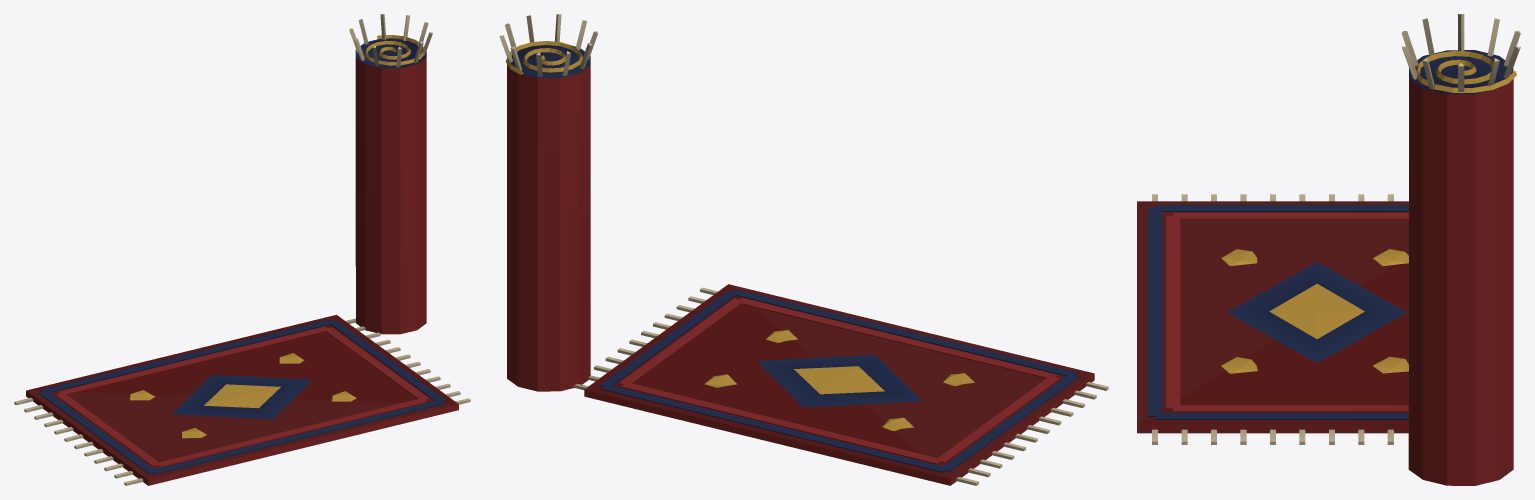
3 renders of one model, left to right at view 1: azimuth 30°, elevation 25°; view 2: azimuth 150°, elevation 25°; view 3: azimuth 270°, elevation 25°, orthographic. The views are drawn at different scales.
Parts seen in each view (by area): view 1: base; view 2: base; view 3: base.
Part boxes in pixels (bbox=[...]): base: bbox=[14, 14, 470, 485]; base: bbox=[499, 14, 1108, 485]; base: bbox=[1137, 14, 1520, 485].
Bounding box in the file's own units: 0.5754 × 0.3909 × 0.3197.
